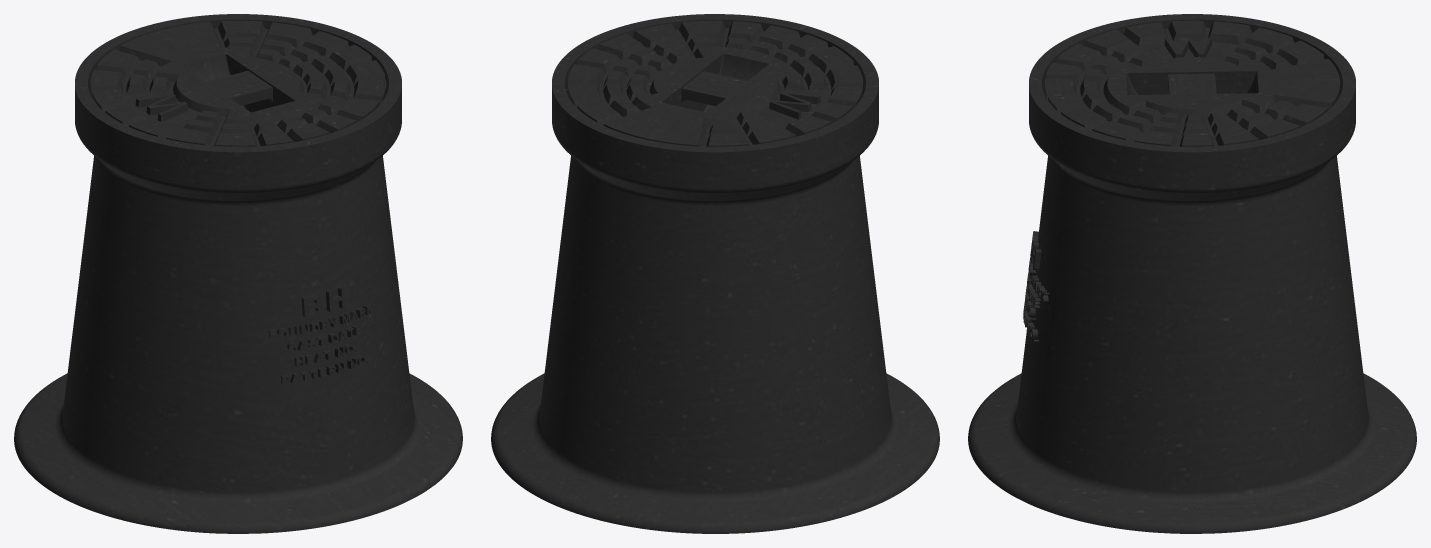
The picture shows the model from 3 angles, left to right: view 1: azimuth 30°, elevation 25°; view 2: azimuth 150°, elevation 25°; view 3: azimuth 270°, elevation 25°; orthographic projection.
Visible parts, largest first — view 1: NAUO4_high; view 2: NAUO4_high; view 3: NAUO4_high.
Part boxes in pixels (x1,y1,x2,y2): NAUO4_high: (14,14,462,533); NAUO4_high: (491,14,939,533); NAUO4_high: (968,14,1416,533).
Size of the model in its own units: 0.24 by 0.21 by 0.24.
Materials: 1 (1 with a texture image).
